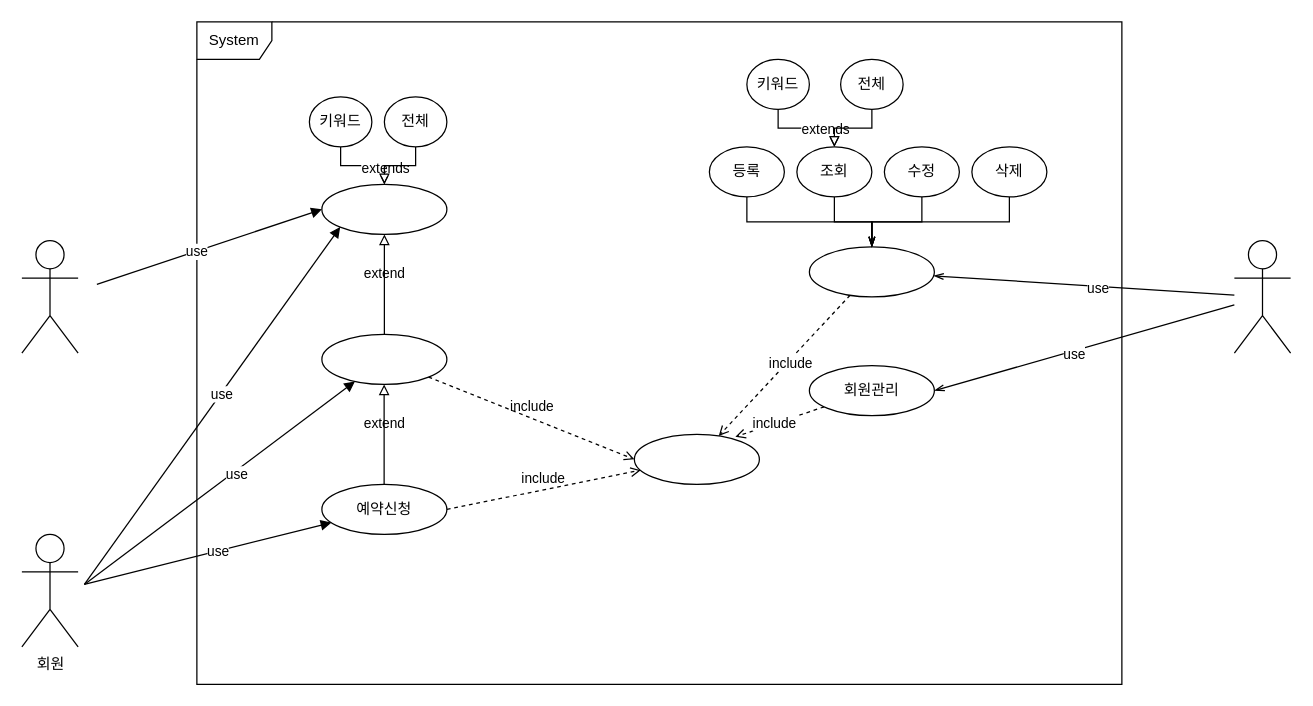
This 1313x706 diagram has some shape labels left out. The centre of each missing label's shape, as x and y in pixels:
대여신청: point 384,358
도서관리: point 871,271
도서조회: point 384,208
비회원: point 49,296
사서: point 1262,296
인증: point 696,458
